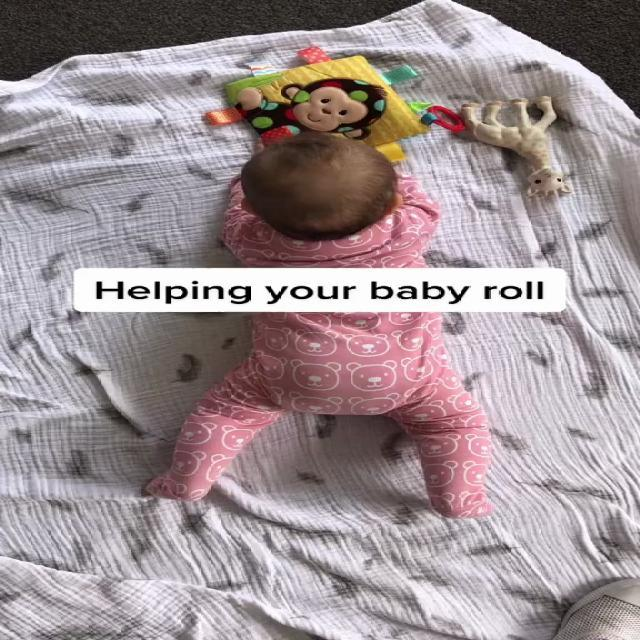baby: (148, 131, 515, 520)
